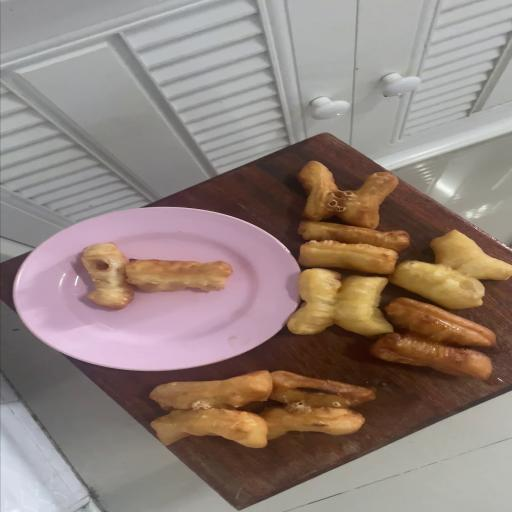street_burnt_defect: (127, 260, 230, 294)
street_golden_defect: (153, 370, 371, 448)
